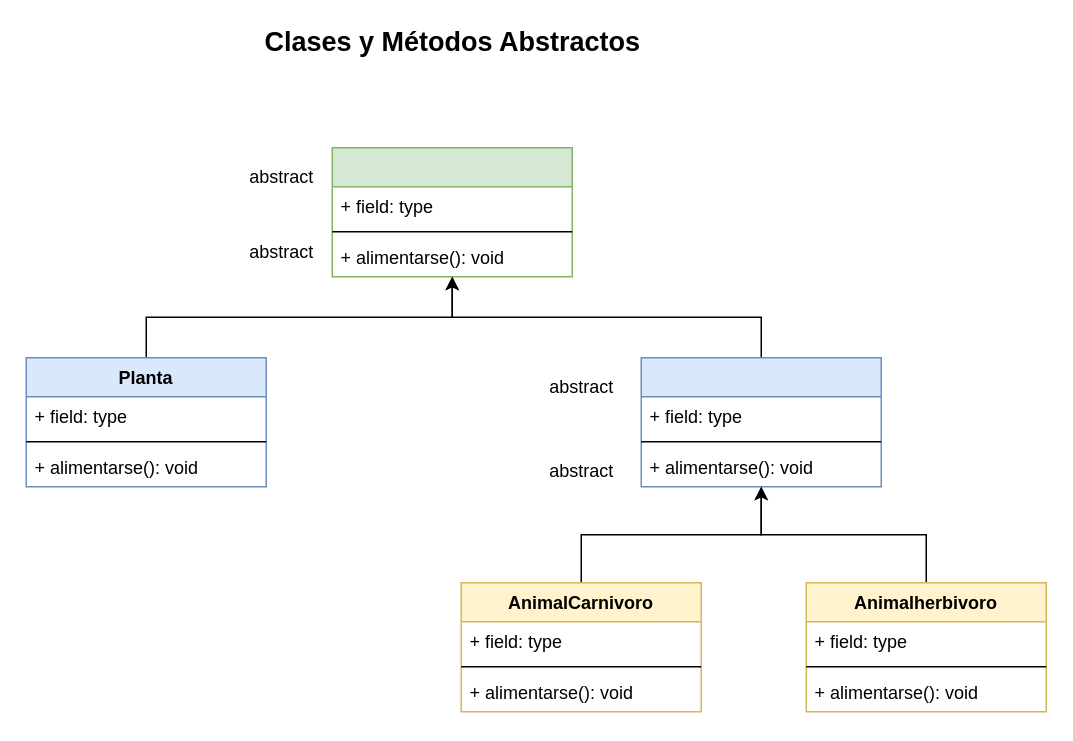
This 1073x741 diagram has some shape labels left out. The shapes that lost their labels are listed below. From the top down, each one's box as (x1, y1, x2, y2) in pixels, then its label:
(331, 146, 572, 277): SerVivo
(640, 356, 881, 487): Animal
